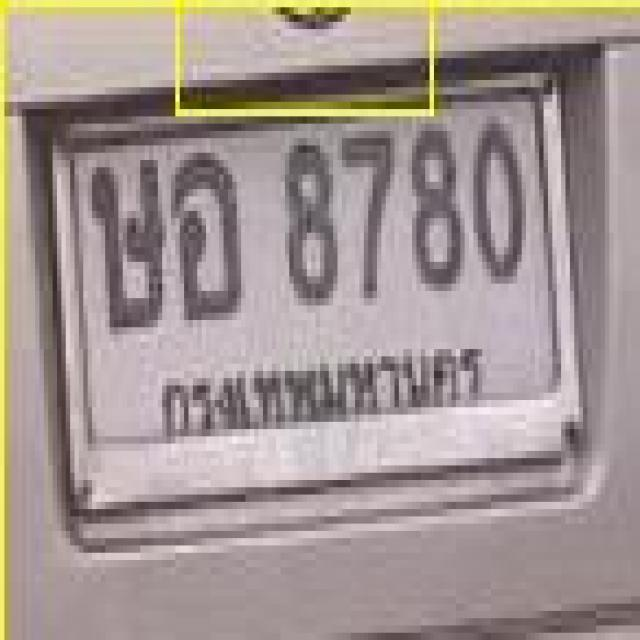license_plate: (39, 58, 606, 536)
